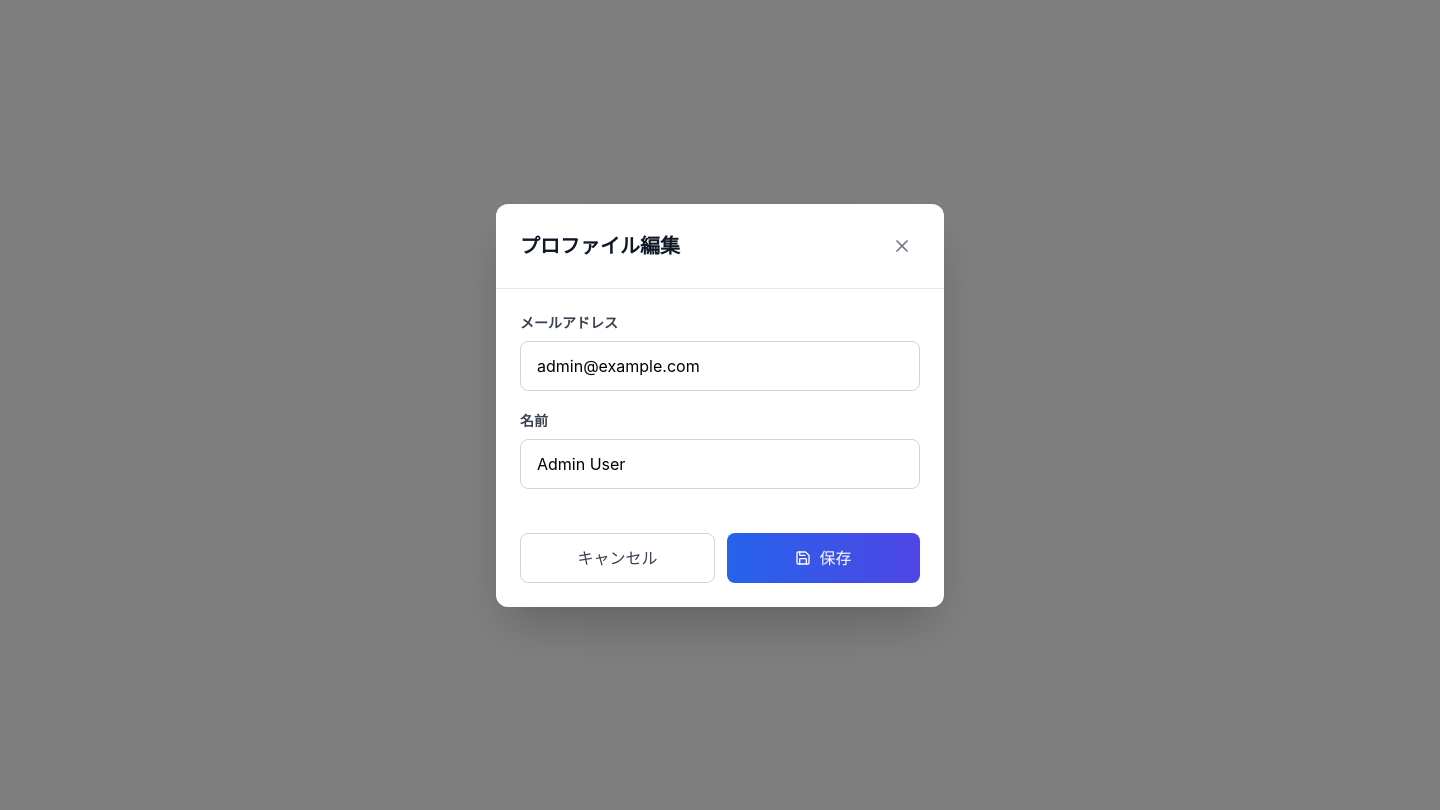
Test case: ProfileEdit › validates required name field
Clear the field showing "Admin User" below "名前". click: (720, 464)
box: [520,438,920,488]
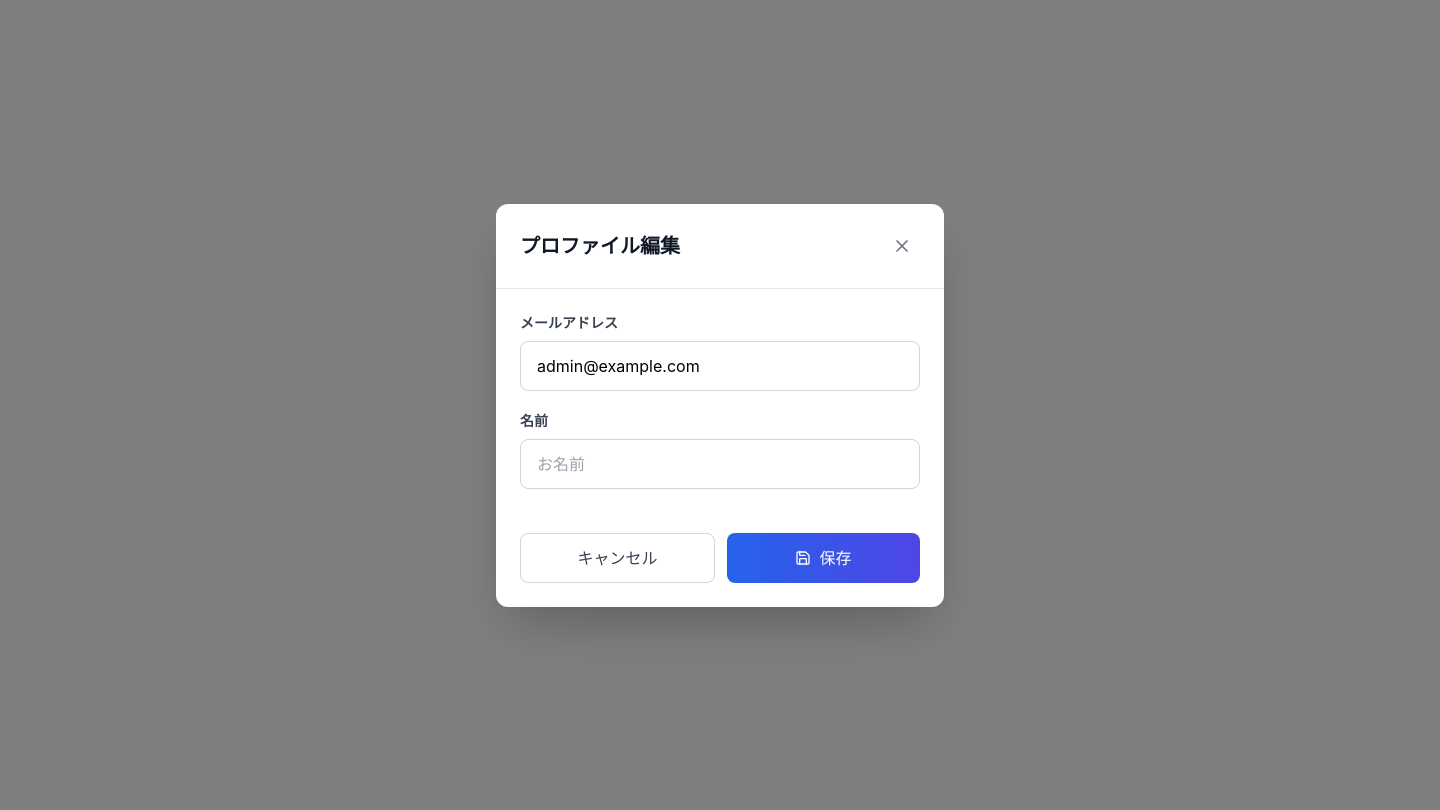
Click the button "保存". click: (824, 558)
box: [727,532,920,582]
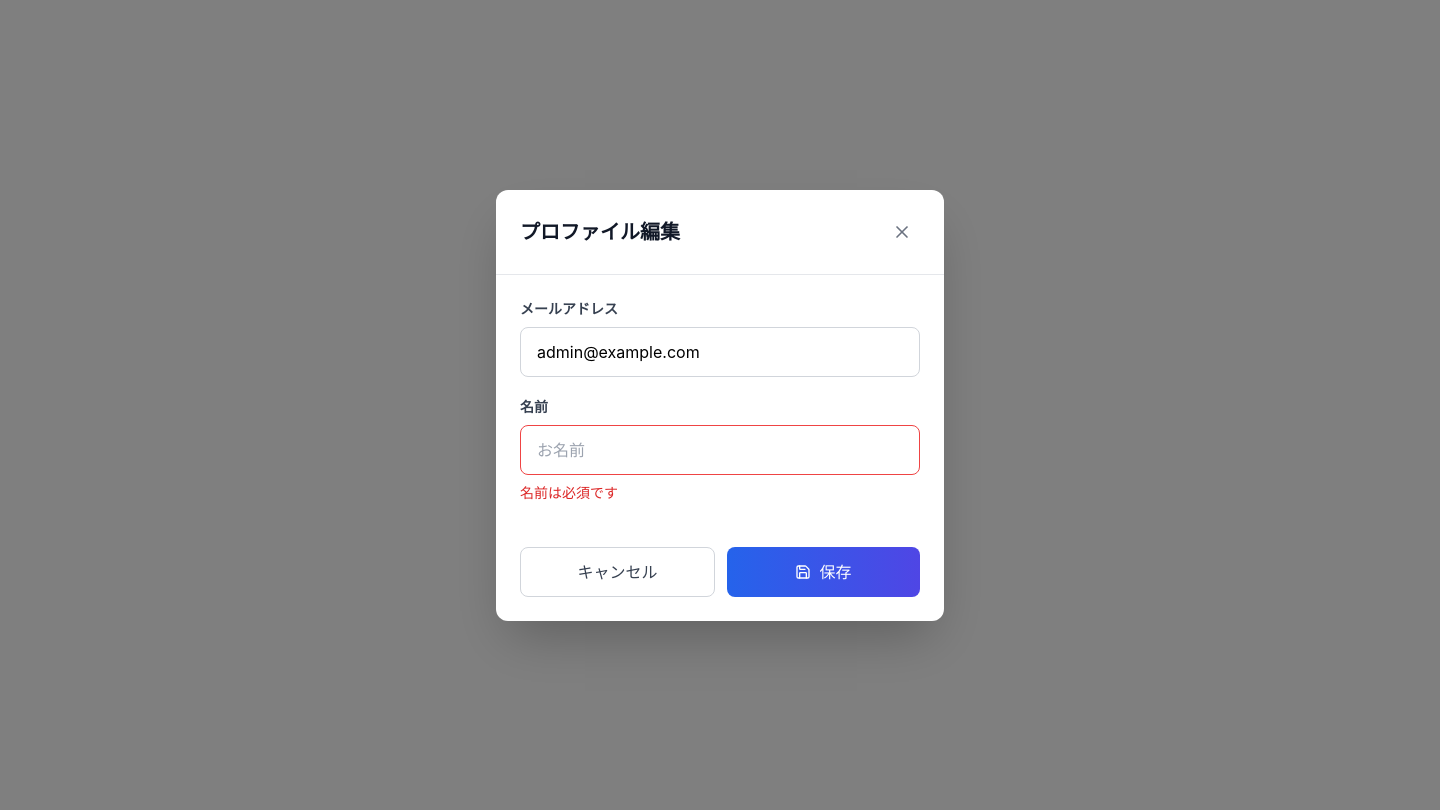
expect the text "名前は必須です" is shown: met, box [520,484,618,500]
